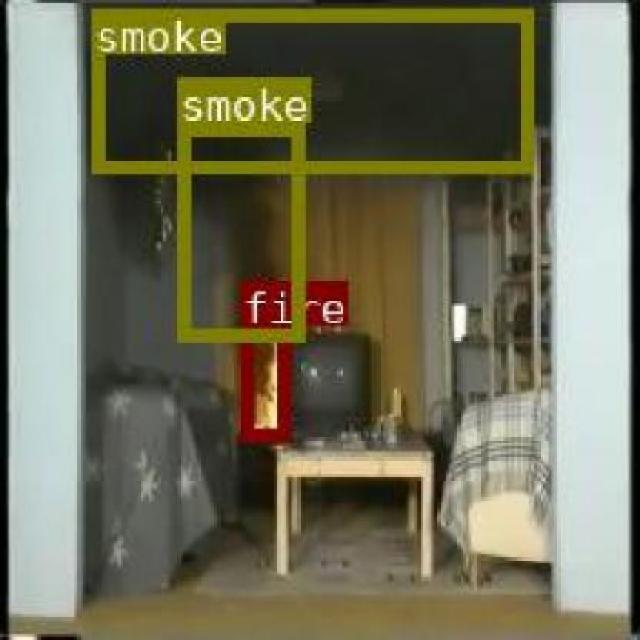Fire: (238, 324, 288, 438)
Smoke: (90, 6, 532, 171), (175, 120, 302, 340)
